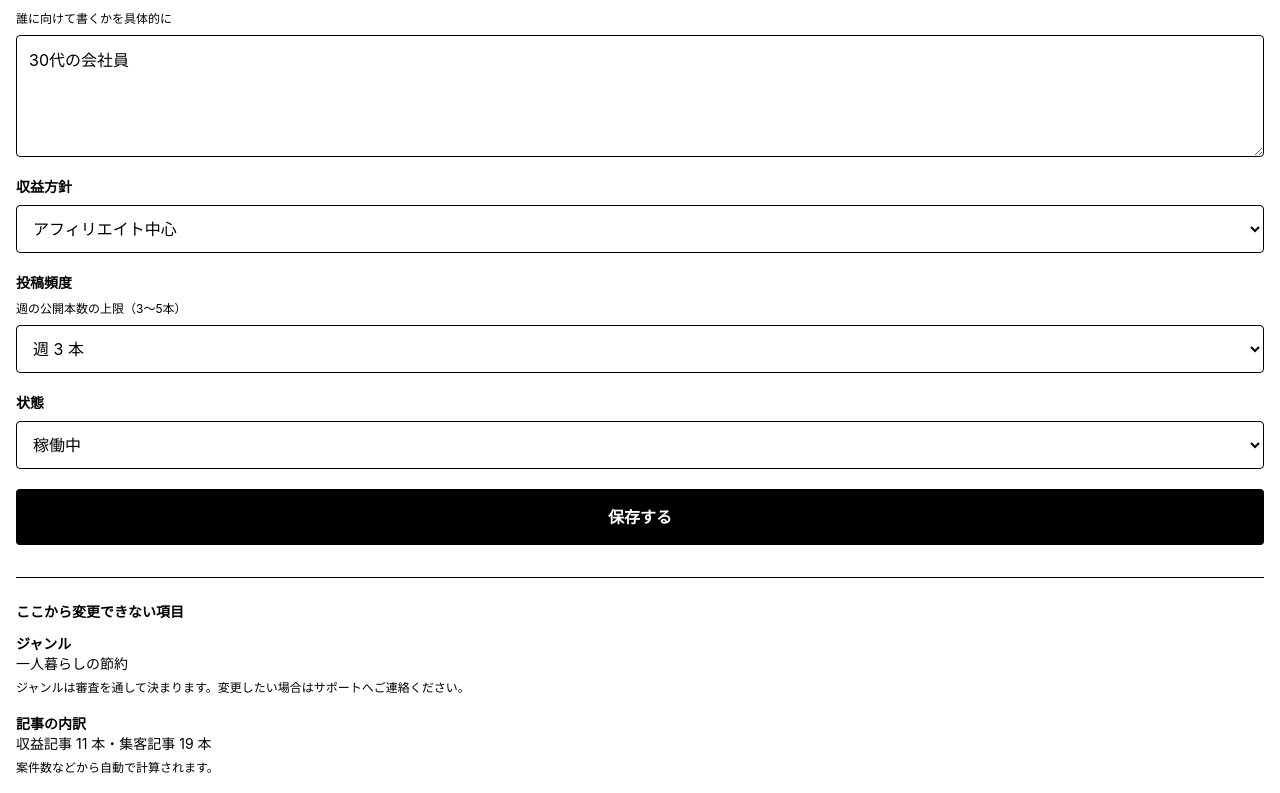
Test: 保存 › 保存できたと伝える
The width and height of the screenshot is (1280, 793).
(page scrolled)
What coordinates should you click on to do the following:
click the button "保存する"
I would click on:
 (640, 517)
Its box is [16, 489, 1264, 545].
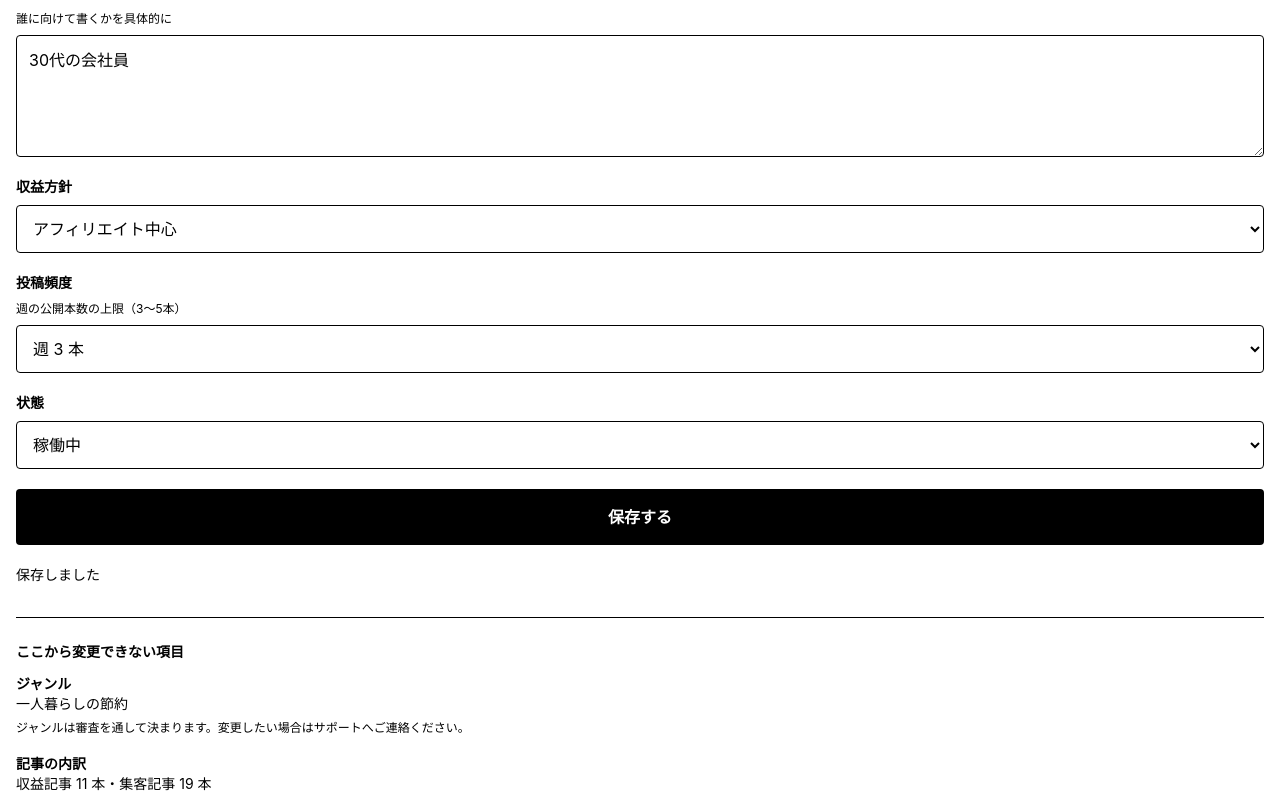
Expected: the text "保存しました" is shown, [16, 566, 100, 583]
